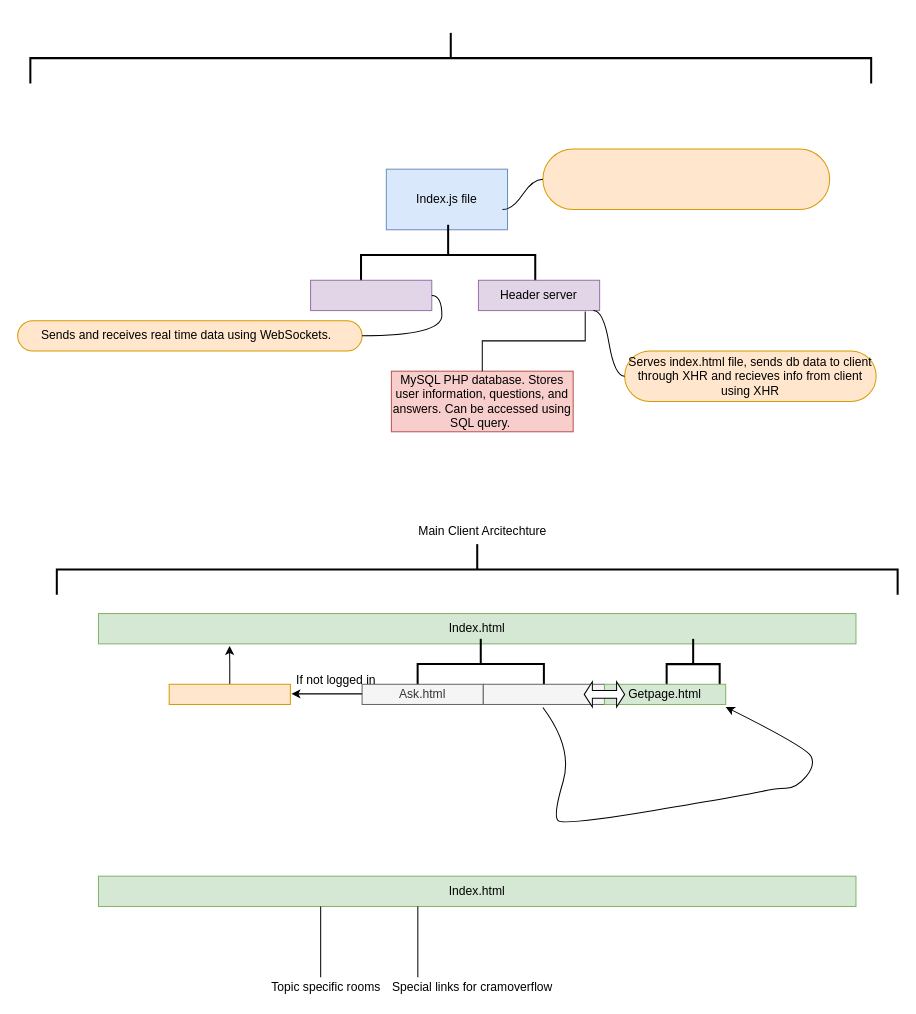
Some shapes in this 916 by 1014 pixel diagram are drawn without their labels. The centre of each missing label's shape, as x and y in pixels:
"Acts as a master server. Starts running all servers when started" belongs at (686,179).
"Answer.html" belongs at (543,693).
"Login.html" belongs at (229,693).
"Server architecture" belongs at (450,57).
"Socket server" belongs at (371,295).
